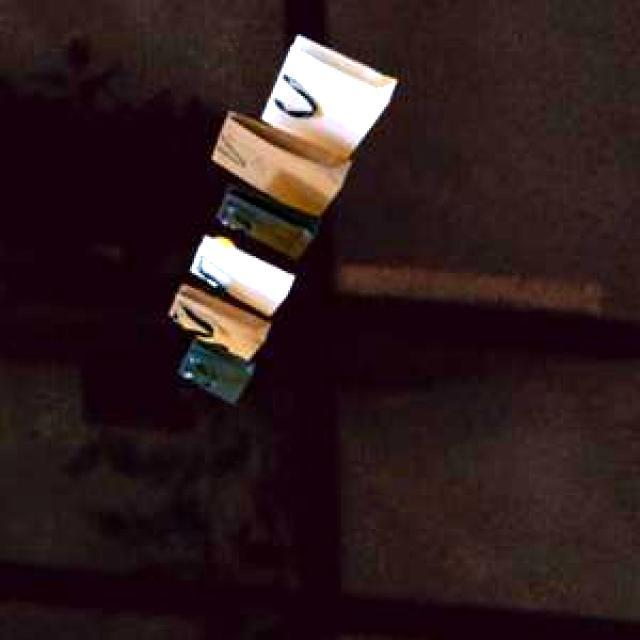Paper_Bag: (168, 33, 394, 400)
